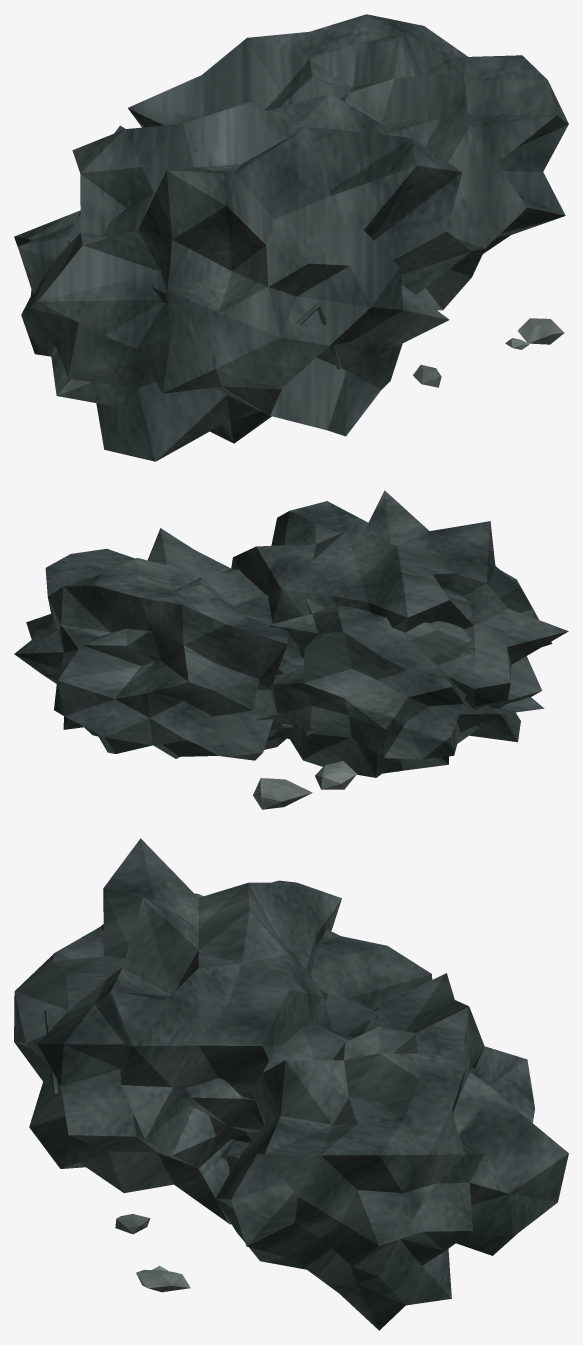
The model's file is 0015_boulder_15.glb.
The picture shows the model from 3 angles, top to bottom: view 1: azimuth 30°, elevation 25°; view 2: azimuth 150°, elevation 25°; view 3: azimuth 270°, elevation 25°; orthographic projection. The views are drawn at different scales.
Visible parts, largest first — view 1: stone_dark, stone; view 2: stone_dark, stone; view 3: stone_dark, stone.
Part boxes in pixels (x1,y1,x2,y2): stone_dark: [14, 14, 568, 461]; stone: [413, 318, 564, 387]; stone_dark: [14, 490, 568, 777]; stone: [253, 761, 356, 809]; stone_dark: [14, 838, 568, 1330]; stone: [115, 1214, 190, 1292].
Bounding box in the file's own units: 3.59 × 1.78 × 2.83.
Materials: 2 (2 with a texture image).
